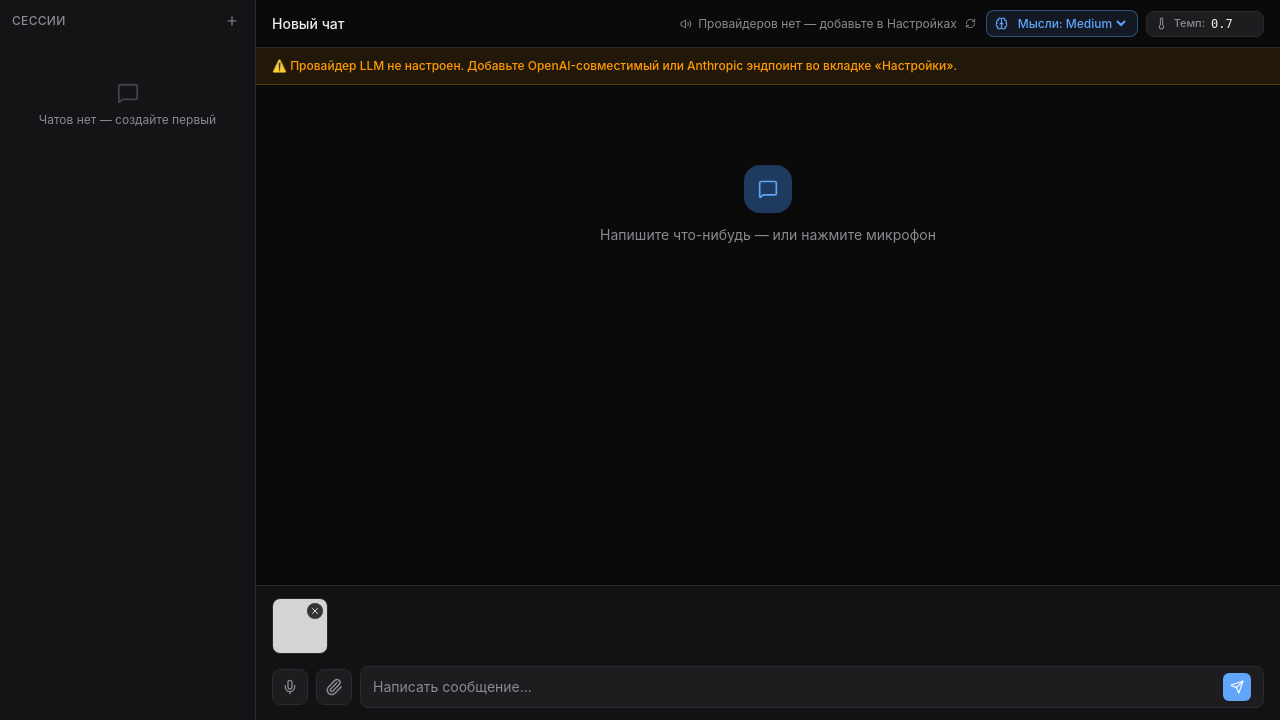
File & Image Attachments Protocol Stress Tests › handles image-only message: encodes to base64, passes to backend, and displays thumbnail in chat
Earlier steps of the test are not shown.
Check: the field with placeholder "Написать сообщение..." is empty, box [373,677,1215,697]
Click the button titled "Отправить": point(1237, 687) [1223,673,1251,701]
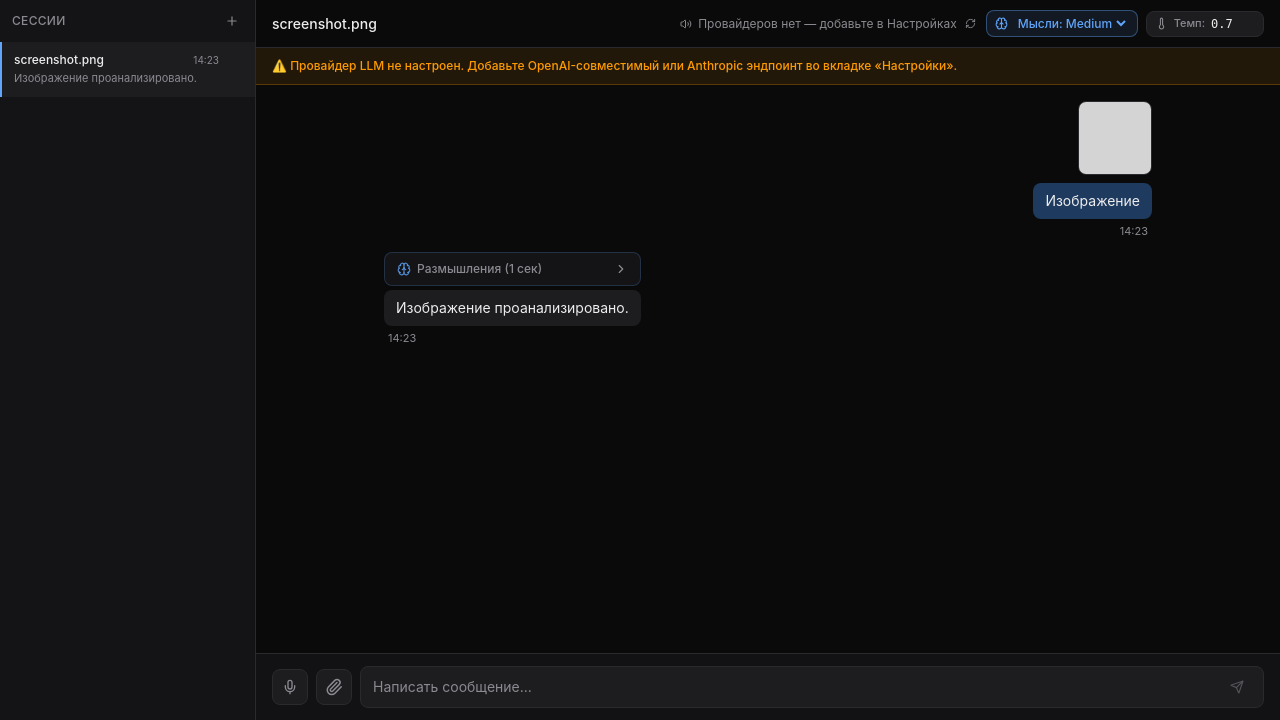
Check: the text "Изображение" is shown, box [1033,183,1152,219]
